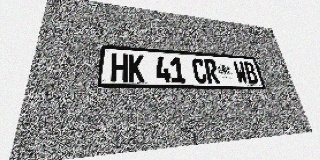1: (169, 57, 186, 83)
4: (155, 56, 172, 83)
B: (243, 62, 259, 84)
C: (191, 58, 208, 83)
H: (111, 53, 128, 82)
K: (128, 54, 145, 82)
R: (204, 59, 220, 84)
W: (232, 61, 249, 84)
